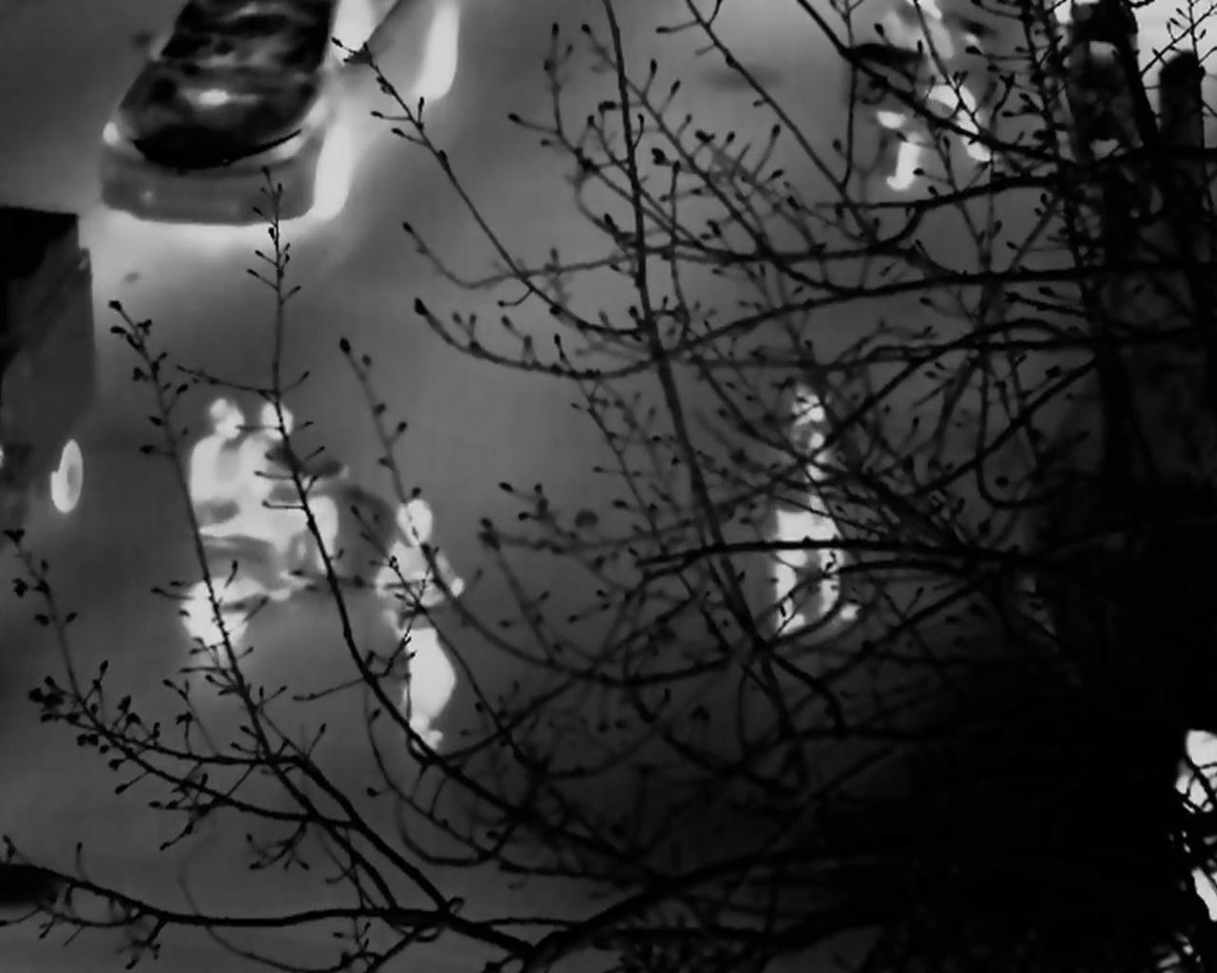person: (773, 373, 870, 650), (239, 391, 333, 601), (384, 497, 461, 724), (188, 404, 259, 553), (1169, 733, 1217, 841)
